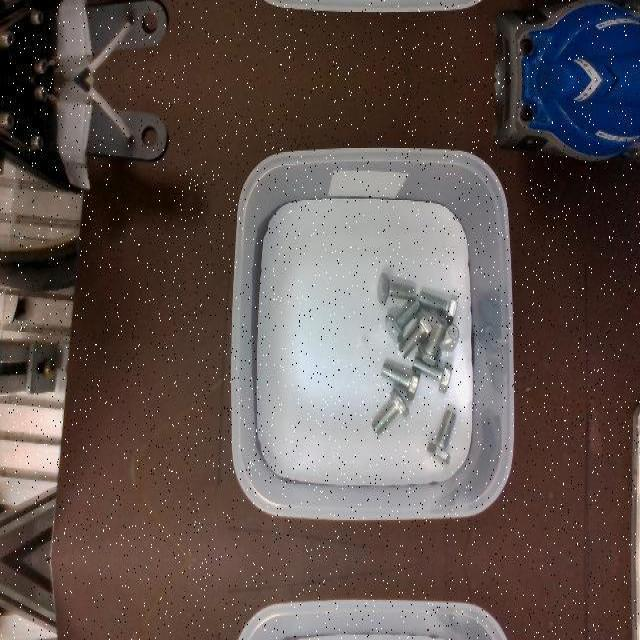screw: (371, 387, 409, 433), (426, 409, 456, 463), (384, 298, 420, 342), (380, 363, 420, 401), (417, 318, 447, 366), (418, 290, 458, 326), (377, 272, 415, 304)
